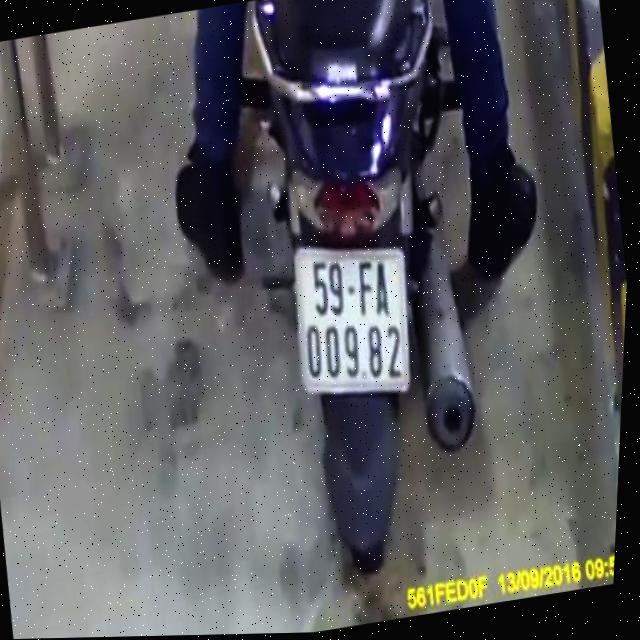motorcycle: (211, 0, 531, 588)
plate: (273, 227, 430, 411)
